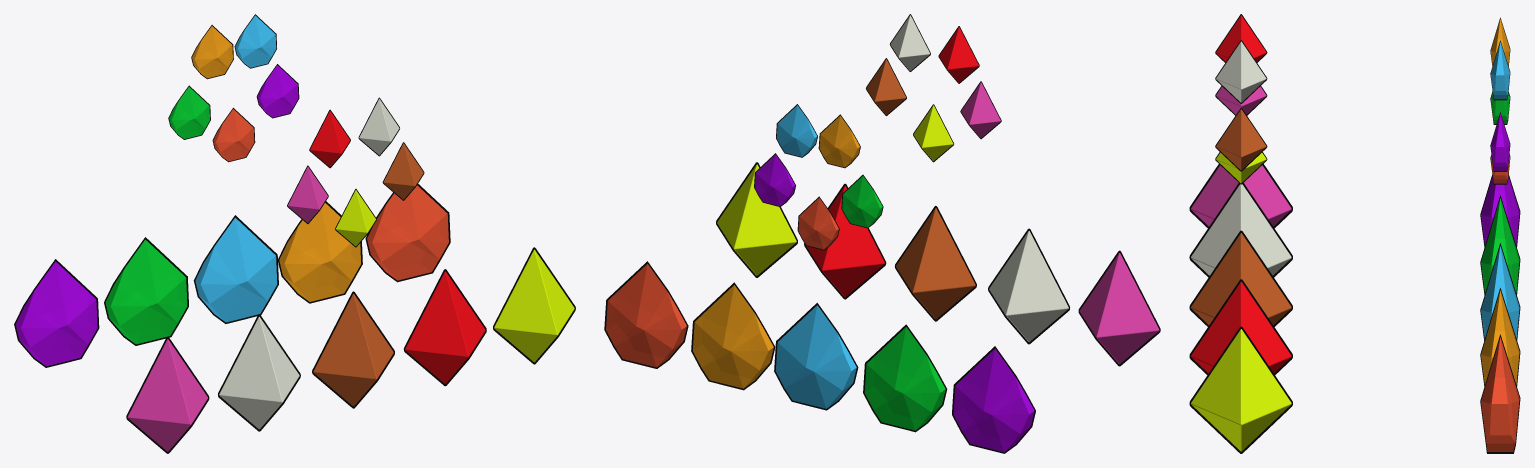
The model's file is shards.glb.
3 views of the same model, side by side, from view 1: azimuth 30°, elevation 25°; view 2: azimuth 150°, elevation 25°; view 3: azimuth 270°, elevation 25° (orthographic). The views are drawn at different scales.
Visible parts, largest first — view 1: crystal, crystal.002, crystal.003, crystal.004, crystal.011, crystal.014, crystal.013, crystal.012, crystal.010, crystal.001, crystal.007, crystal.009 (+11 smaller); view 2: crystal, crystal.004, crystal.001, crystal.003, crystal.002, crystal.014, crystal.012, crystal.010, crystal.013, crystal.011, crystal.005, crystal.009 (+13 smaller); view 3: crystal.013, crystal.012, crystal.010, crystal.011, crystal.014, crystal.004, crystal.018, crystal.016, crystal.002, crystal.001, crystal, crystal.003 (+8 smaller).
Part boxes in pixels (x1,y1,x2,y2): crystal: (195,217,277,322); crystal.002: (105,239,187,344); crystal.003: (15,261,97,366); crystal.004: (367,185,448,280); crystal.011: (403,269,486,386); crystal.014: (126,337,209,453); crystal.013: (493,247,575,364); crystal.012: (218,314,300,431); crystal.010: (312,291,394,408); crystal.001: (279,203,361,301); crystal.007: (169,87,209,138); crystal.009: (213,109,254,161); crystal: (775,305,856,408); crystal.004: (606,264,686,367); crystal.001: (693,285,773,388); crystal.003: (953,348,1034,452); crystal.002: (864,327,945,430); crystal.014: (1078,250,1160,366); crystal.012: (988,228,1069,344); crystal.010: (894,206,976,321); crystal.013: (716,162,797,277); crystal.011: (804,183,886,299); crystal.005: (819,115,859,167); crystal.009: (798,198,838,249); crystal.013: (1189,326,1292,453); crystal.012: (1189,183,1292,277); crystal.010: (1189,230,1292,326); crystal.011: (1189,279,1292,374); crystal.014: (1189,164,1292,228); crystal.004: (1481,337,1519,451); crystal.018: (1215,108,1267,171); crystal.016: (1215,40,1267,103); crystal.002: (1481,198,1519,293); crystal.001: (1481,290,1519,384); crystal: (1481,246,1519,338); crystal.003: (1481,176,1519,245).
Size of the model in its own units: 4.71 by 3.05 by 2.76.
